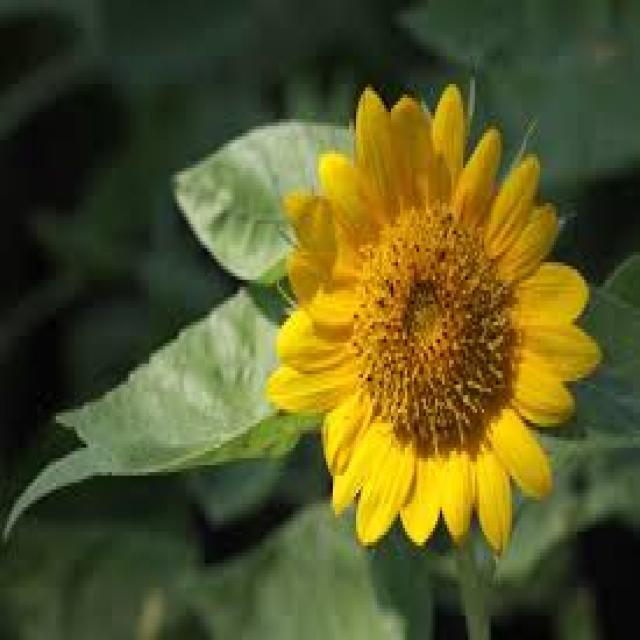sunflower: (264, 75, 612, 564)
